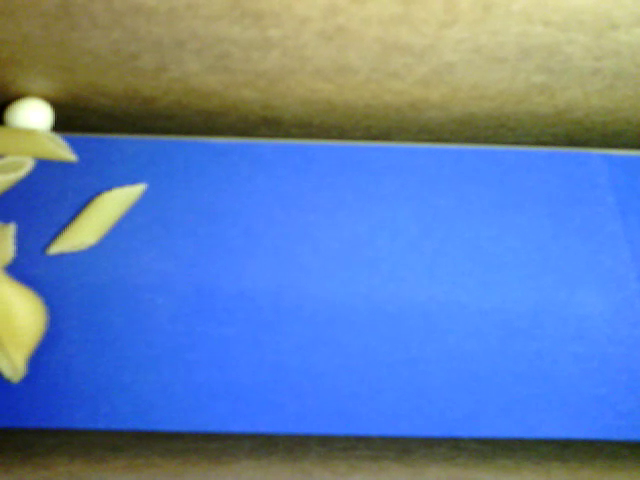penne: (45, 183, 148, 254), (1, 124, 79, 163), (1, 155, 36, 197)
shell: (1, 268, 52, 383)
